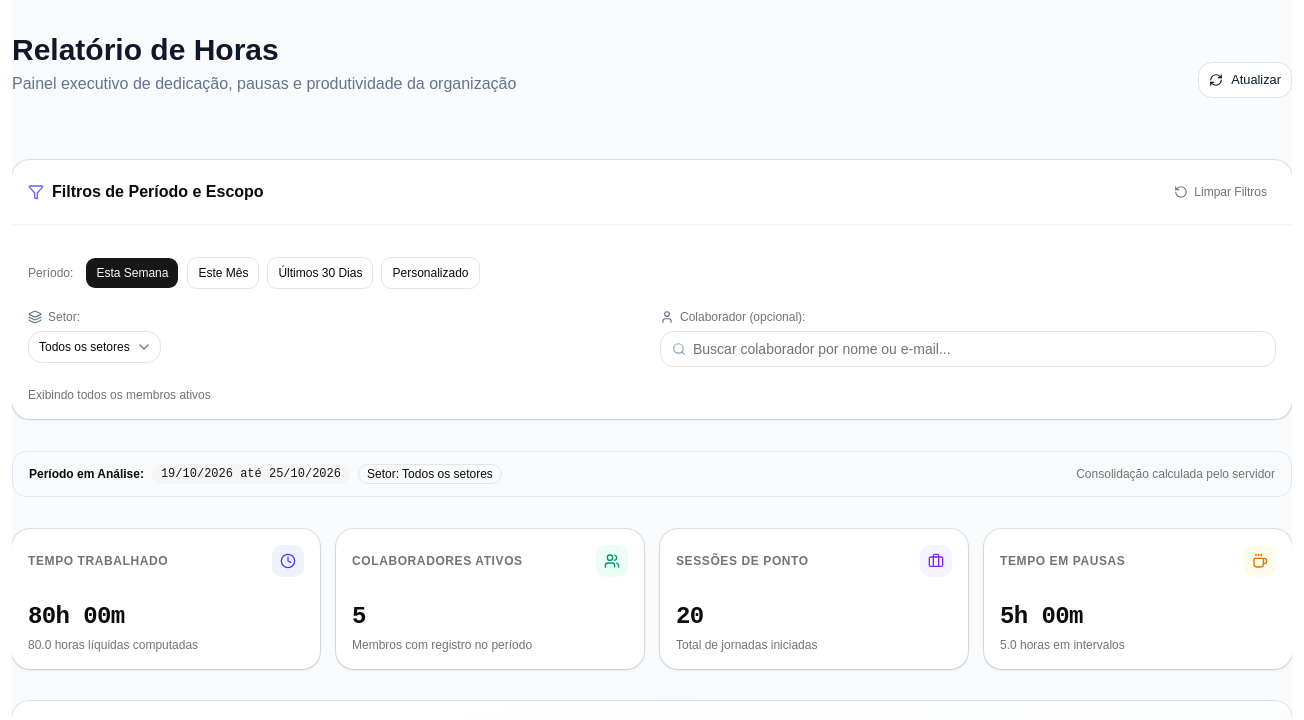
HourReport Admin Page (Metrics Summary & Users Breakdown) › não deve exibir administradores e super_admins nas sugestões de colaboradores
Check: the text "80h 00m" is shown, box [28,603,125,630]
Note: Foca no input de busca para abrir as sugestões
Step 1. Focus the dropdown with test id "collaborator-autocomplete-input" → coordinates (968, 349), box [660,331,1276,367]
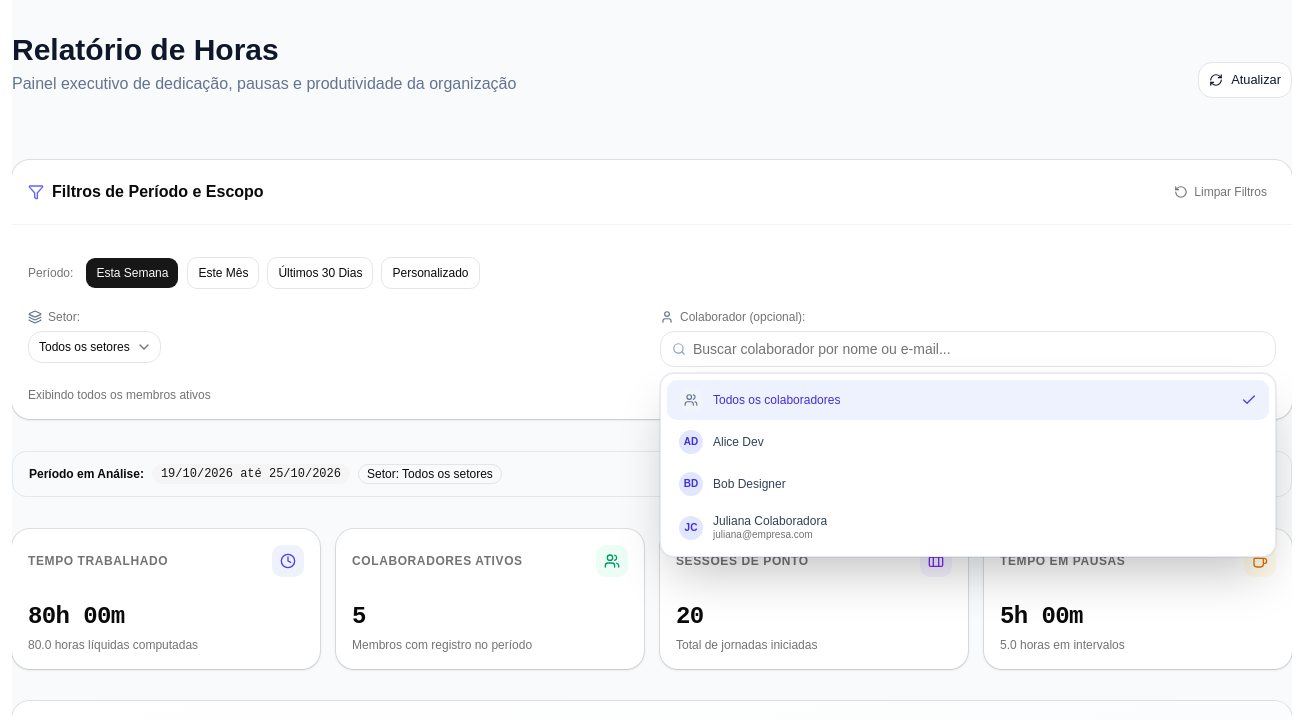
Check: the list with test id "collaborator-suggestions-list" is shown, box [660,373,1276,556]
Check: the text "Juliana Colaboradora" is shown, box [713,514,827,529]
